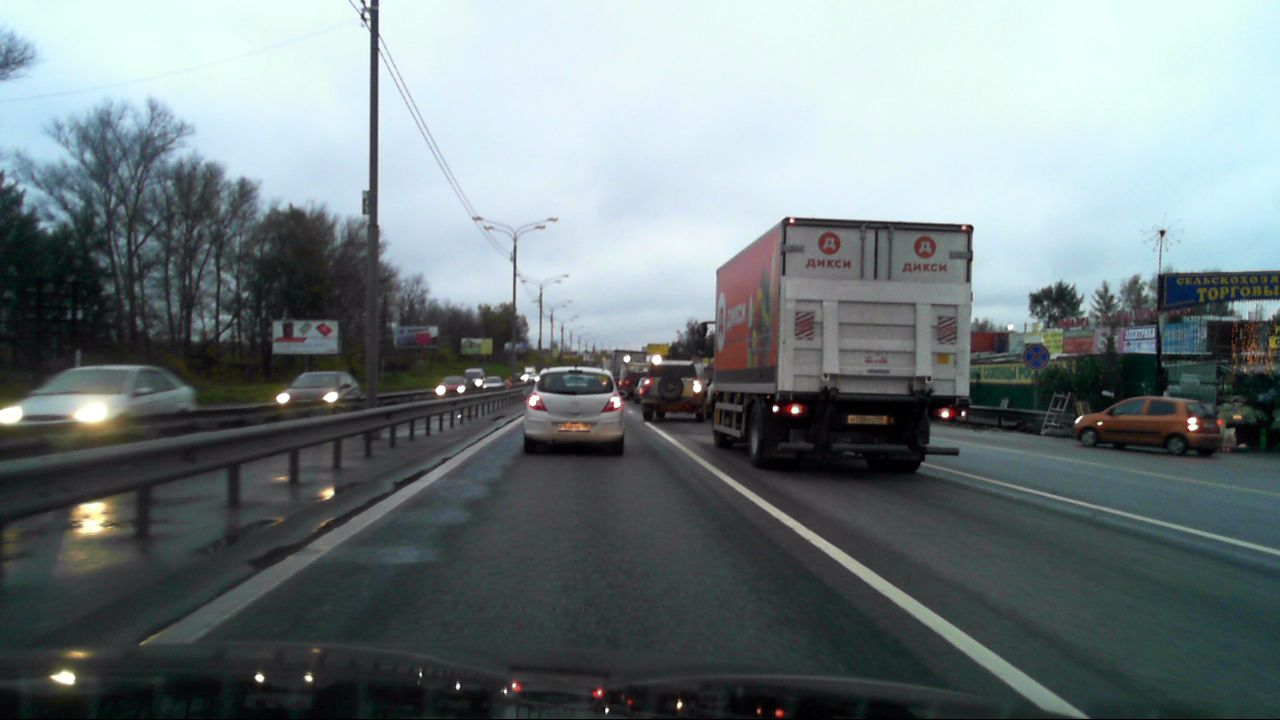No Parking: (1023, 344, 1049, 368)
